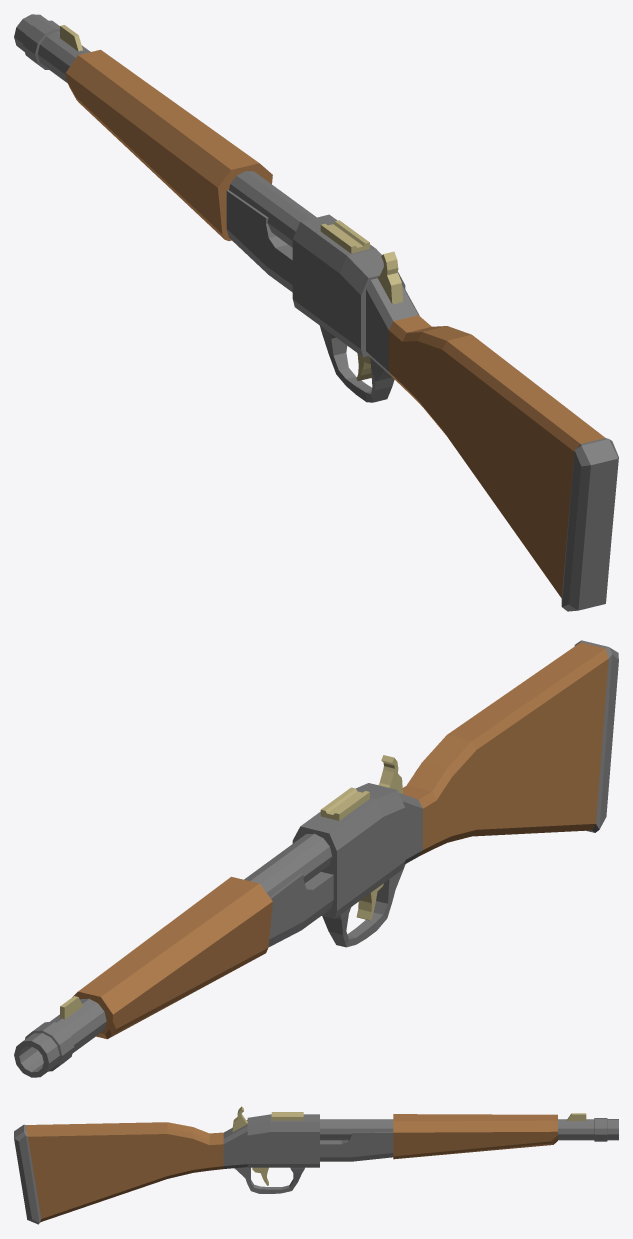
File: Carabine-Shotgun-Short.fbx
The picture shows the model from 3 angles, top to bottom: view 1: azimuth 30°, elevation 25°; view 2: azimuth 150°, elevation 25°; view 3: azimuth 270°, elevation 25°; orthographic projection. The views are drawn at different scales.
Parts seen in each view (by area): view 1: Shotgun_A; view 2: Shotgun_A; view 3: Shotgun_A.
Boxes of the visible parts, x1=… form: Shotgun_A: x1=14, y1=14, x2=618, y2=611; Shotgun_A: x1=14, y1=640, x2=618, y2=1077; Shotgun_A: x1=14, y1=1106, x2=618, y2=1224.
Bounding box in the file's own units: 59.07 × 220 × 1067.
